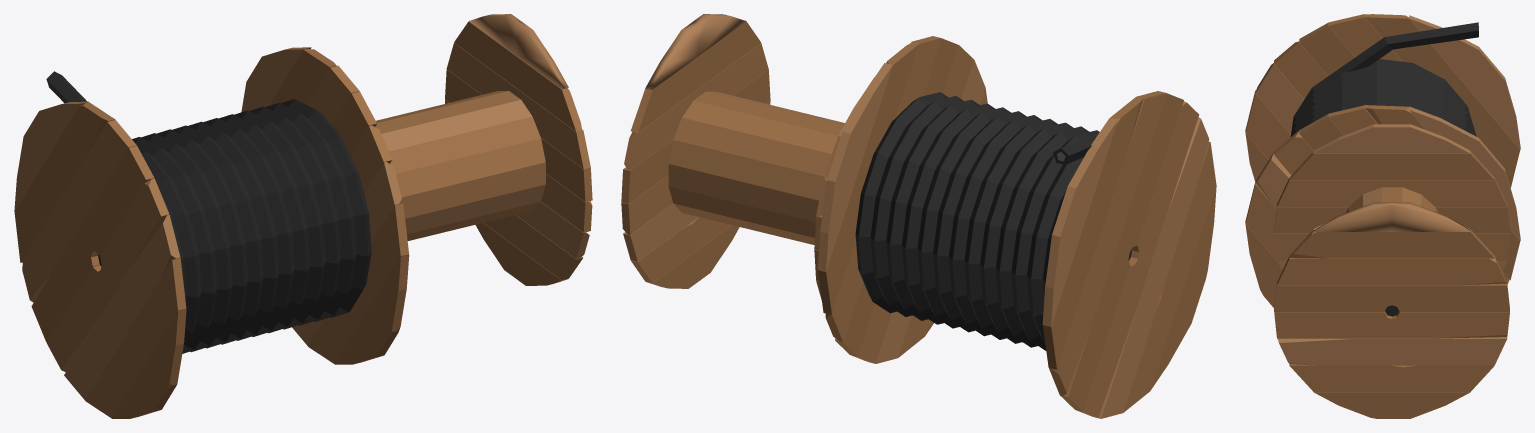
File: CableReelBroke.fbx
The picture shows the model from 3 angles, left to right: view 1: azimuth 30°, elevation 25°; view 2: azimuth 150°, elevation 25°; view 3: azimuth 270°, elevation 25°; orthographic projection. The views are drawn at different scales.
Visible parts, largest first — view 1: CableReel_fracturepart11_6, CableReel_fracturepart4_2, CableReel_fracturepart1_7, CableReel_fracturepart3_9, CableReel_fracturepart7, CableReel_fracturepart16_4, CableReel_fracturepart12_5, CableReel_fracturepart5, CableReel_fracturepart12_2, CableReel_fracturepart18, CableReel_fracturepart12_3, CableReel_fracturepart5_4 (+49 smaller); view 2: CableReel_fracturepart9_9, CableReel_fracturepart14_6, CableReel_fracturepart6_5, CableReel_fracturepart3_9, CableReel_fracturepart20_4, CableReel_fracturepart12_5, CableReel_fracturepart12_2, CableReel_fracturepart5, CableReel_fracturepart17_7, CableReel_fracturepart12_3, CableReel_fracturepart8_3, CableReel_fracturepart_2 (+49 smaller); view 3: CableReel_fracturepart5, CableReel_fracturepart5_3, CableReel_fracturepart5_5, CableReel_fracturepart_2, CableReel_fracturepart11_6, CableReel_fracturepart20, CableReel_fracturepart14_2, CableReel_fracturepart17_7, CableReel_fracturepart20_3, CableReel_fracturepart13_6, CableReel_fracturepart14_7, CableReel_fracturepart2_5 (+60 smaller).
Part boxes in pixels (bbox=[...]): CableReel_fracturepart11_6: bbox=[154, 129, 269, 275]; CableReel_fracturepart4_2: bbox=[395, 103, 545, 192]; CableReel_fracturepart1_7: bbox=[266, 147, 363, 274]; CableReel_fracturepart3_9: bbox=[176, 99, 347, 168]; CableReel_fracturepart7: bbox=[245, 206, 331, 336]; CableReel_fracturepart16_4: bbox=[397, 178, 543, 240]; CableReel_fracturepart12_5: bbox=[85, 296, 175, 418]; CableReel_fracturepart5: bbox=[462, 21, 581, 131]; CableReel_fracturepart12_2: bbox=[77, 277, 149, 400]; CableReel_fracturepart18: bbox=[197, 246, 258, 338]; CableReel_fracturepart12_3: bbox=[112, 314, 185, 418]; CableReel_fracturepart5_4: bbox=[456, 91, 545, 185]; CableReel_fracturepart9_9: bbox=[855, 142, 1003, 297]; CableReel_fracturepart14_6: bbox=[668, 116, 789, 235]; CableReel_fracturepart6_5: bbox=[970, 175, 1066, 343]; CableReel_fracturepart3_9: bbox=[887, 92, 1021, 161]; CableReel_fracturepart20_4: bbox=[766, 120, 844, 243]; CableReel_fracturepart12_5: bbox=[1123, 192, 1213, 412]; CableReel_fracturepart12_2: bbox=[1114, 211, 1187, 414]; CableReel_fracturepart5: bbox=[637, 21, 760, 116]; CableReel_fracturepart17_7: bbox=[1042, 176, 1086, 326]; CableReel_fracturepart12_3: bbox=[1149, 191, 1216, 391]; CableReel_fracturepart8_3: bbox=[946, 277, 1046, 350]; CableReel_fracturepart_2: bbox=[645, 14, 746, 89]; CableReel_fracturepart5: bbox=[1289, 229, 1482, 258]; CableReel_fracturepart5_3: bbox=[1277, 257, 1462, 285]; CableReel_fracturepart5_5: bbox=[1275, 284, 1422, 311]; CableReel_fracturepart_2: bbox=[1313, 202, 1470, 231]; CableReel_fracturepart11_6: bbox=[1292, 73, 1408, 135]; CableReel_fracturepart20: bbox=[1375, 151, 1494, 180]; CableReel_fracturepart14_2: bbox=[1347, 311, 1479, 338]; CableReel_fracturepart17_7: bbox=[1464, 41, 1520, 149]; CableReel_fracturepart20_3: bbox=[1366, 180, 1505, 206]; CableReel_fracturepart13_6: bbox=[1290, 59, 1437, 136]; CableReel_fracturepart14_7: bbox=[1383, 283, 1507, 311]; CableReel_fracturepart2_5: bbox=[1381, 365, 1494, 392].
Bounding box in the file's own units: 240 × 157 × 158.
Materials: 1 (1 with a texture image).
